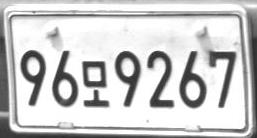2: (146, 49, 174, 108)
6: (179, 50, 207, 108), (51, 50, 78, 107)
7: (208, 50, 237, 108)
9: (20, 49, 46, 106), (114, 50, 140, 107)
모: (81, 60, 109, 107)
